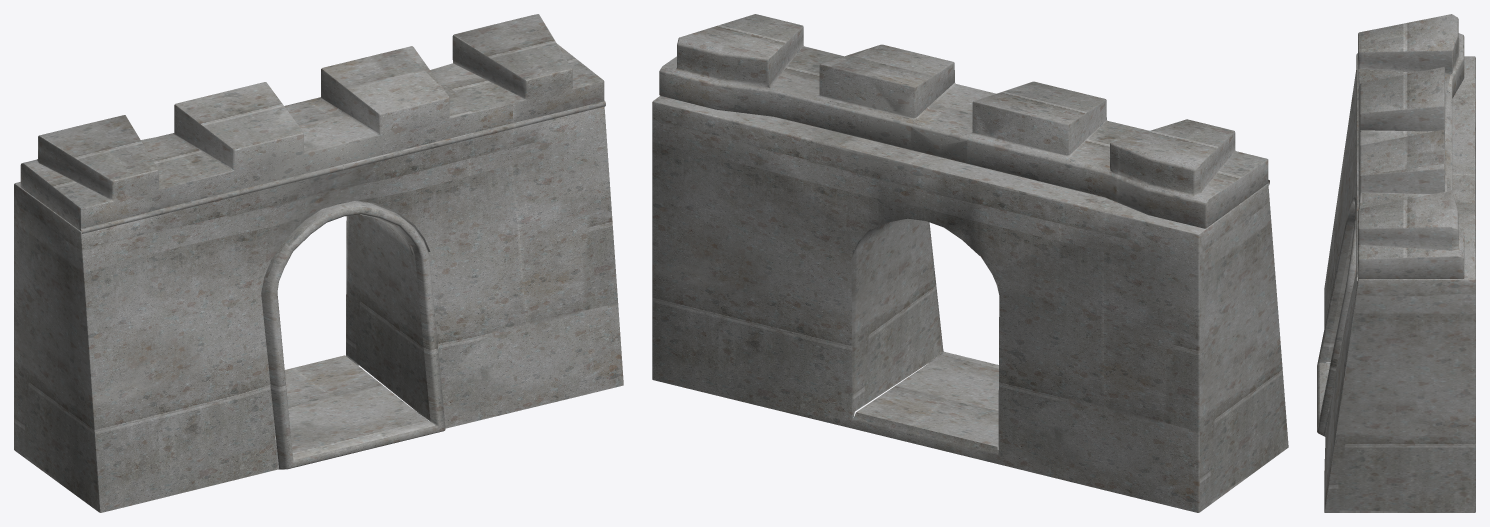
Rendered from fort_wall_door1t.fbx.
3 views of the same model, side by side, from view 1: azimuth 30°, elevation 25°; view 2: azimuth 150°, elevation 25°; view 3: azimuth 270°, elevation 25° (orthographic). The views are drawn at different scales.
Visible parts, largest first — view 1: fort_wall_door1t; view 2: fort_wall_door1t; view 3: fort_wall_door1t.
Part boxes in pixels (x1=…): fort_wall_door1t: x1=14, y1=14, x2=623, y2=512; fort_wall_door1t: x1=652, y1=14, x2=1288, y2=512; fort_wall_door1t: x1=1317, y1=14, x2=1475, y2=512.
Size of the model in its own units: 300 by 177 by 89.95.
Materials: 1 (1 with a texture image).
